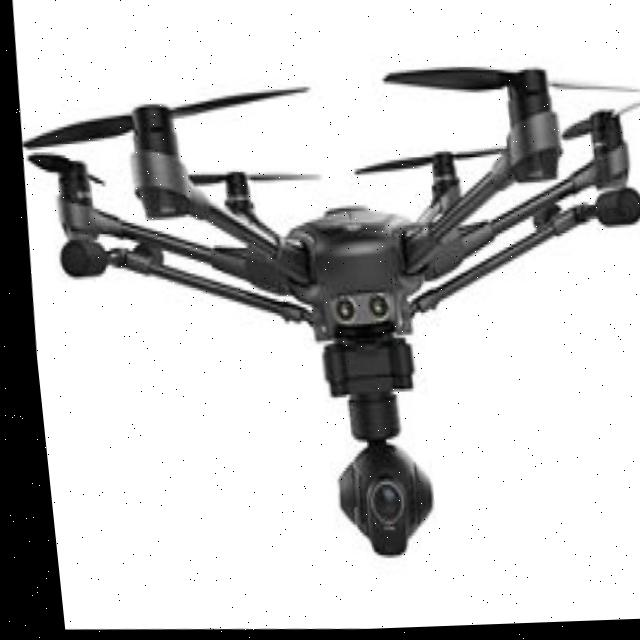drones: (3, 18, 640, 601)
